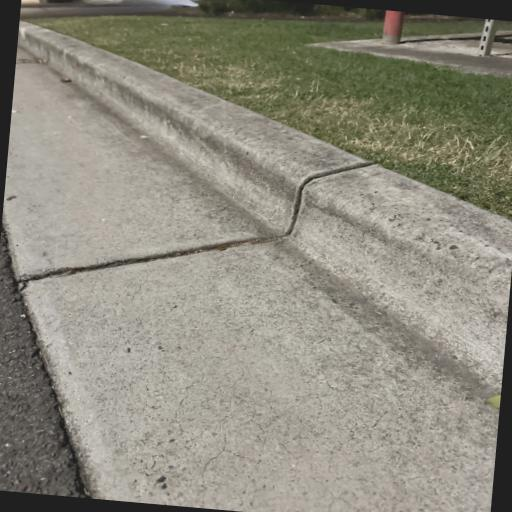kerb: (3, 23, 512, 512)
